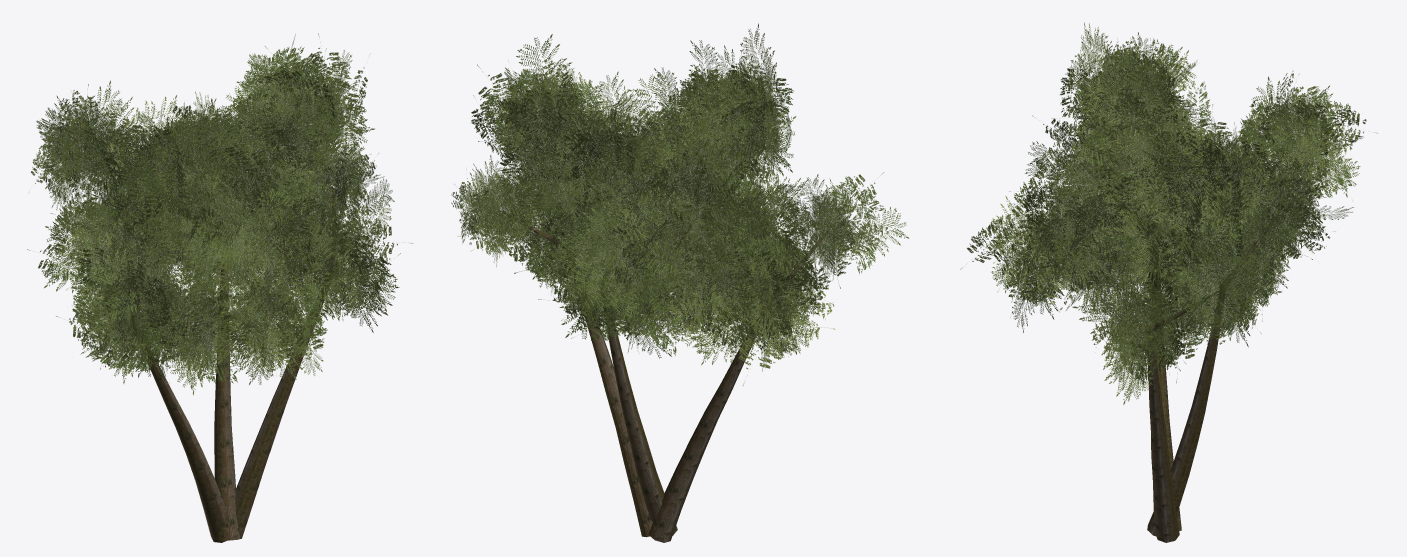
Rendered from tamarisk_4.glb.
3 views of the same model, side by side, from view 1: azimuth 30°, elevation 25°; view 2: azimuth 150°, elevation 25°; view 3: azimuth 270°, elevation 25° (orthographic). The views are drawn at different scales.
Visible parts, largest first — view 1: tamarisk; view 2: tamarisk; view 3: tamarisk.
Boxes of the visible parts, x1,y1,x2,y2 form: tamarisk: (27, 33, 413, 542); tamarisk: (451, 23, 909, 542); tamarisk: (960, 22, 1377, 542).
Bounding box in the file's own units: 6.92 × 8.81 × 7.22.
Materials: 2 (2 with a texture image).
